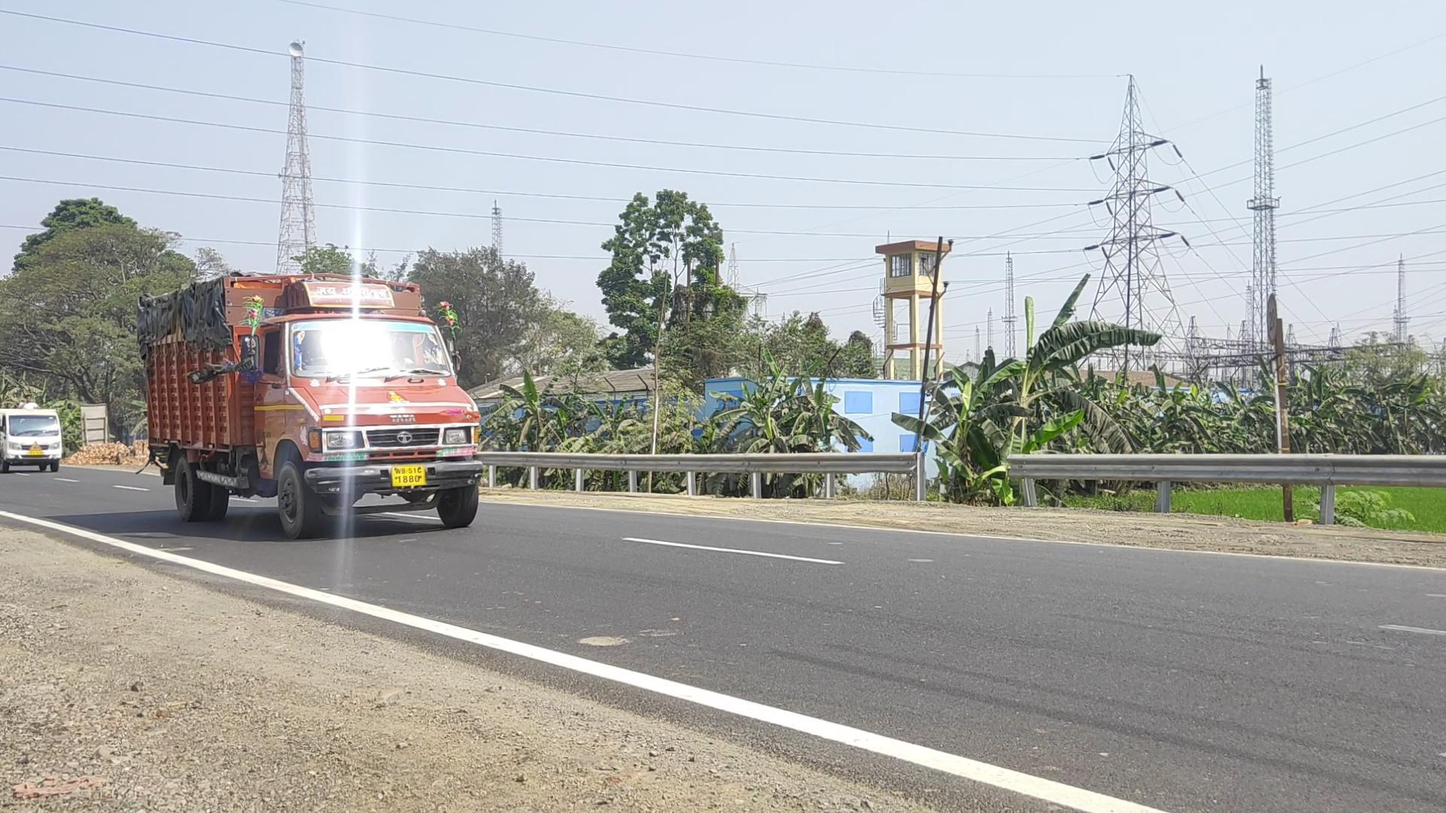truck: (136, 273, 484, 541)
van: (1, 394, 63, 473)
